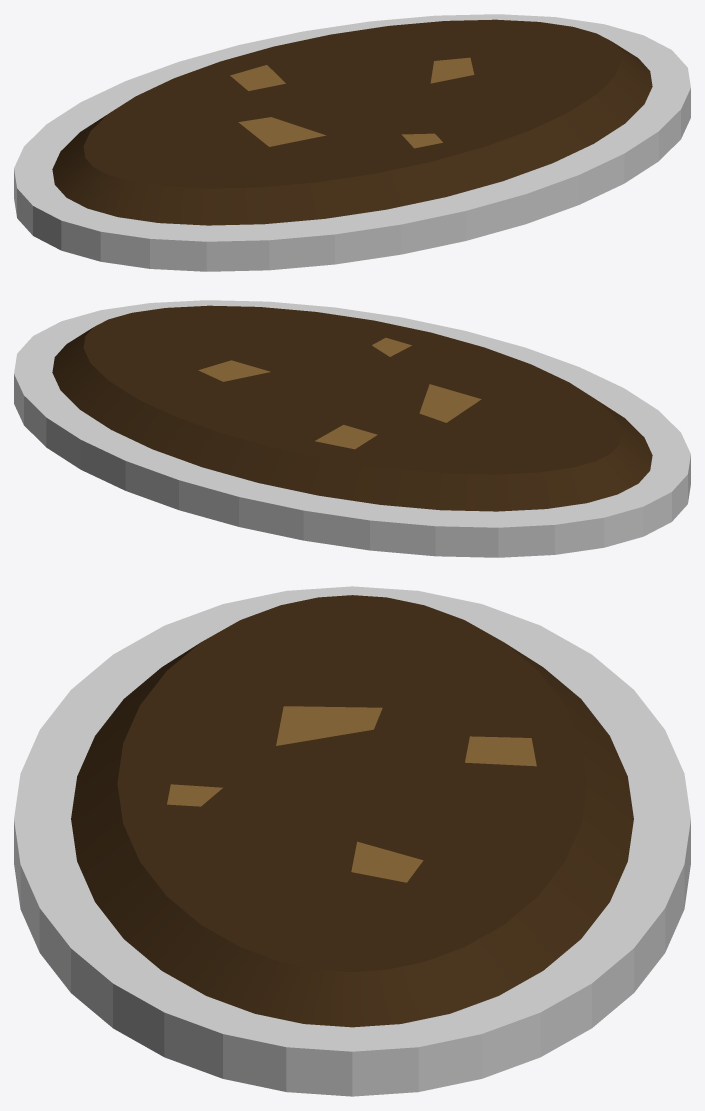
The model's file is Curry.fbx.
3 views of the same model, one above another, from view 1: azimuth 30°, elevation 25°; view 2: azimuth 150°, elevation 25°; view 3: azimuth 270°, elevation 25° (orthographic). The views are drawn at different scales.
Parts seen in each view (by area): view 1: 円.001; view 2: 円.001; view 3: 円.001.
Part boxes in pixels (x1,y1,x2,y2): 円.001: [14, 14, 690, 271]; 円.001: [14, 300, 690, 557]; 円.001: [14, 586, 690, 1096].
Bounding box in the file's own units: 325 × 26.19 × 200.
